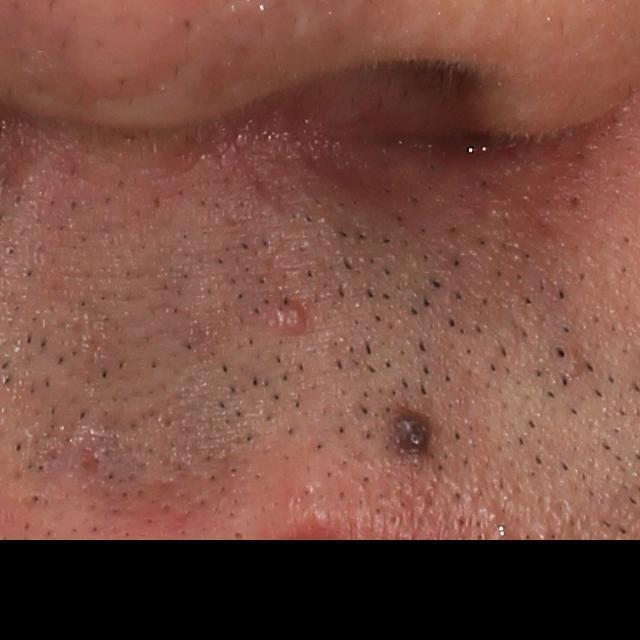comedo: (566, 191, 588, 211)
nevus: (381, 397, 432, 474)
papule: (271, 303, 309, 338)
